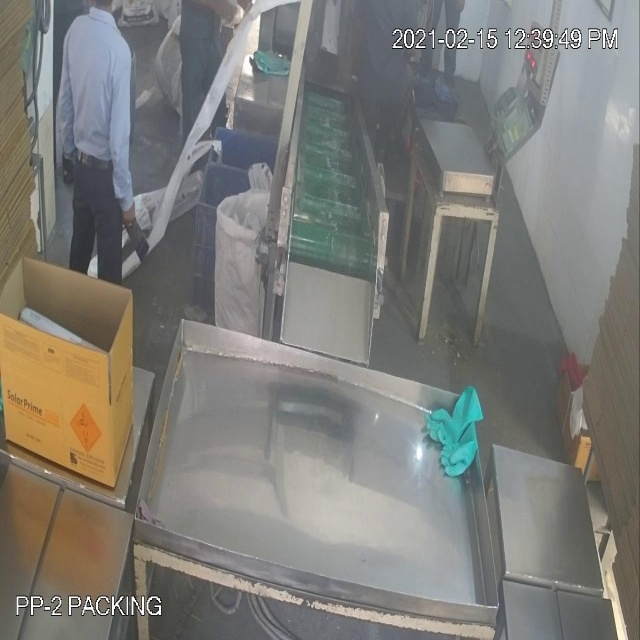Guantes: (415, 384, 490, 487)
Sin_guantes: (109, 41, 142, 232)
